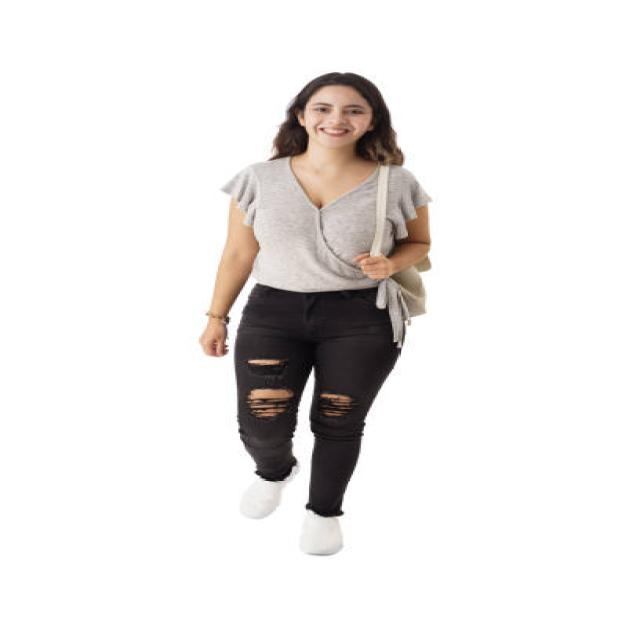Edited images: (182, 57, 461, 563)
